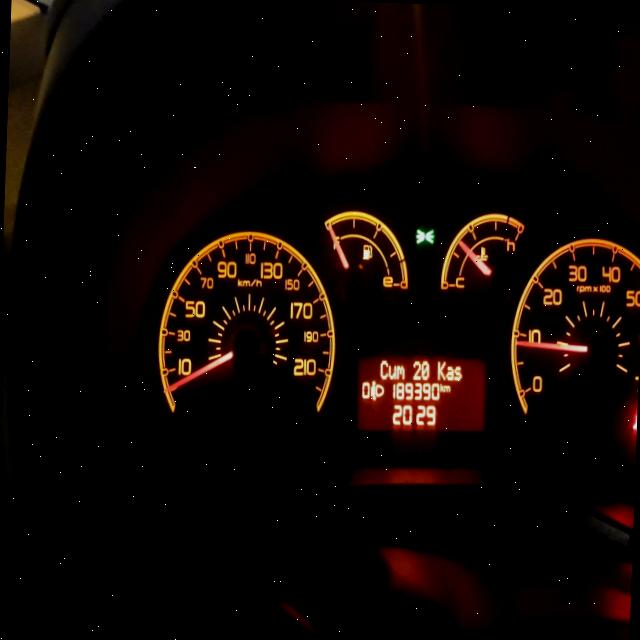odometer: (349, 349, 492, 440)
